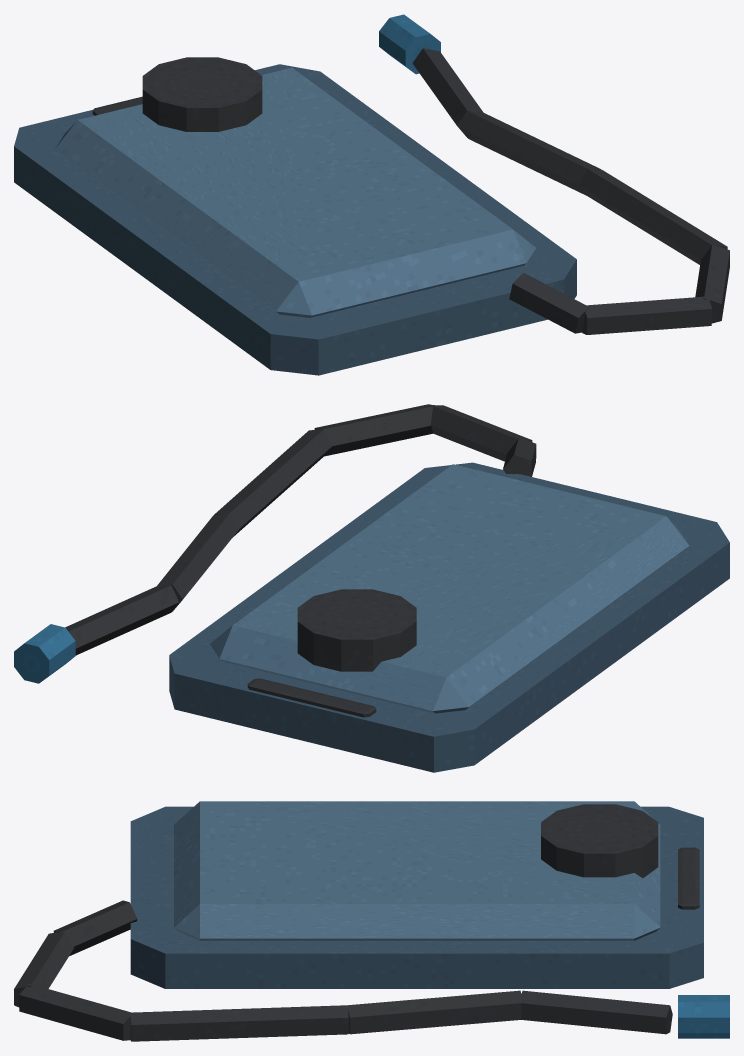
File: camelbak.glb
3 views of the same model, one above another, from view 1: azimuth 30°, elevation 25°; view 2: azimuth 150°, elevation 25°; view 3: azimuth 270°, elevation 25° (orthographic).
Visible parts, largest first — view 1: block_filled bladder, block_flat hydration bladder, block_wide fill cap, block_drinking hose 3, block_drinking hose 4, block_drinking hose 1, block_drinking hose 0, block_drinking hose 5, block_bite valve, block_drinking hose 2; view 2: block_filled bladder, block_flat hydration bladder, block_wide fill cap, block_drinking hose 3, block_drinking hose 5, block_drinking hose 2, block_drinking hose 4, block_drinking hose 1, block_bite valve, block_hanging slot, block_drinking hose 0; view 3: block_filled bladder, block_flat hydration bladder, block_wide fill cap, block_drinking hose 3, block_drinking hose 4, block_drinking hose 5, block_drinking hose 2, block_bite valve, block_drinking hose 0, block_drinking hose 1, block_hanging slot.
Part boxes in pixels (x1,y1,x2,y2): block_filled bladder: (55,67,535,317); block_flat hydration bladder: (14,64,576,375); block_wide fill cap: (142,57,262,131); block_drinking hose 3: (579,168,727,264); block_drinking hose 4: (460,111,600,195); block_drinking hose 1: (582,296,712,334); block_drinking hose 0: (509,272,589,333); block_drinking hose 5: (412,48,483,137); block_bite valve: (379,14,440,74); block_drinking hose 2: (695,244,729,323); block_filled bladder: (210,464,689,713); block_flat hydration bladder: (169,462,729,772); block_wide fill cap: (297,589,416,671); block_drinking hose 3: (214,428,331,537); block_drinking hose 5: (65,585,179,655); block_drinking hose 2: (314,404,436,456); block_drinking hose 4: (157,512,239,611); block_drinking hose 1: (430,405,532,461); block_bite valve: (14,624,75,683); block_hanging slot: (247,678,376,717); block_drinking hose 0: (503,438,536,476); block_filled bladder: (174,801,660,940); block_flat hydration bladder: (130,806,703,988); block_wide fill cap: (541,804,658,877); block_drinking hose 3: (130,1005,348,1041); block_drinking hose 4: (347,990,521,1034); block_drinking hose 5: (521,990,672,1034); block_drinking hose 2: (19,983,132,1040); block_bite valve: (678,995,729,1038); block_drinking hose 0: (53,900,137,956); block_drinking hose 1: (14,932,74,1007); block_hanging slot: (678,847,699,909).
Size of the model in its own units: 0.0966 by 0.0185 by 0.1386.
Materials: 1 (1 with a texture image).
